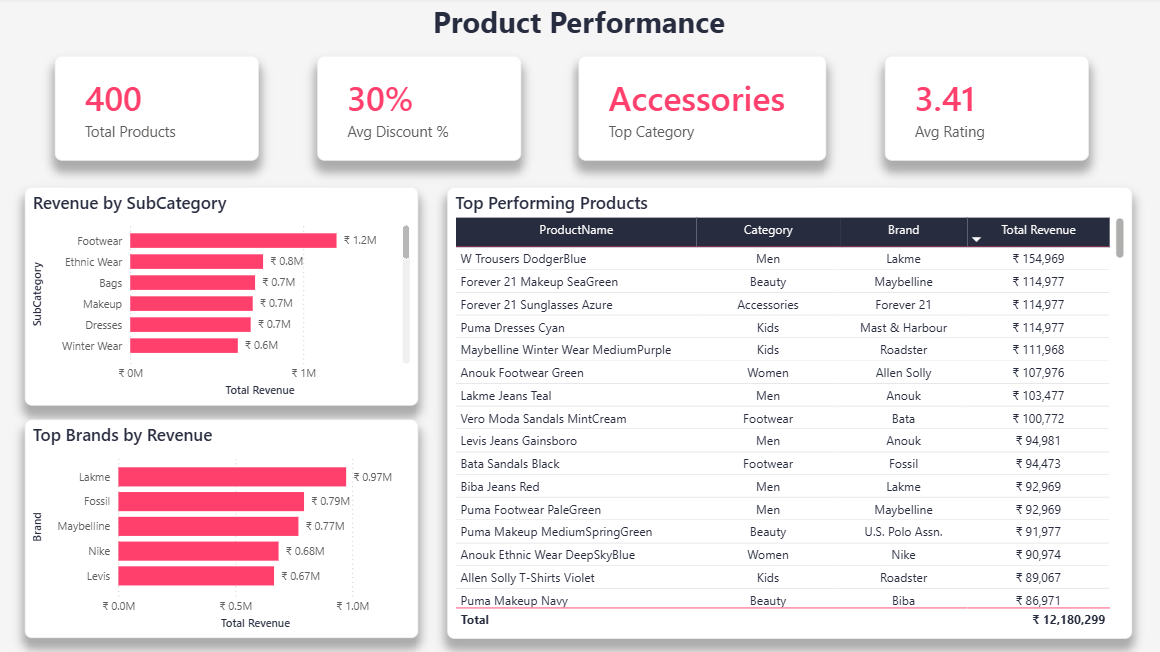

The page's visual inventory and layout, read from the dashboard file:
{"tool":"powerbi","page":{"name":"Products","canvas":[1280,720],"ordinal":2},"visuals":[{"type":"textbox","box":[0,0,1280,64],"z":0},{"type":"cardVisual","fields":{"Data":["M-Table.Total Products"]},"box":[64,64,224,115],"z":1000},{"type":"cardVisual","fields":{"Data":["M-Table.Avg Discount %"]},"box":[352,64,224,115],"z":2000},{"type":"cardVisual","fields":{"Data":["M-Table.Top Category"]},"box":[640,64,272,115],"z":3000},{"type":"cardVisual","fields":{"Data":["M-Table.Avg Rating"]},"box":[976,64,224,115],"z":4000},{"type":"clusteredBarChart","title":"Revenue by SubCategory","fields":{"Category":["Products.SubCategory"],"Y":["M-Table.Total Revenue"]},"box":[32,208,432,240],"z":5000},{"type":"clusteredBarChart","title":"Top Brands by Revenue","fields":{"Category":["Products.Brand"],"Y":["M-Table.Total Revenue"]},"box":[32,464,432,240],"z":6000},{"type":"tableEx","title":"Top Performing Products","fields":{"Values":["Products.ProductName","Products.Category","Products.Brand","M-Table.Total Revenue"]},"box":[496,208,752,496],"z":7000}]}

Visuals, with their boxes in screenshot pixels (x1, y1, x2, y2), scaled from the page's 1280x720 canvas onto the 1160x652 screenshot:
textbox: [0,0,1159,58]
cardVisual - M-Table.Total Products: [58,58,261,162]
cardVisual - M-Table.Avg Discount %: [319,58,522,162]
cardVisual - M-Table.Top Category: [580,58,826,162]
cardVisual - M-Table.Avg Rating: [884,58,1088,162]
"Revenue by SubCategory" clusteredBarChart: [29,188,420,406]
"Top Brands by Revenue" clusteredBarChart: [29,420,420,638]
"Top Performing Products" tableEx: [450,188,1131,638]
